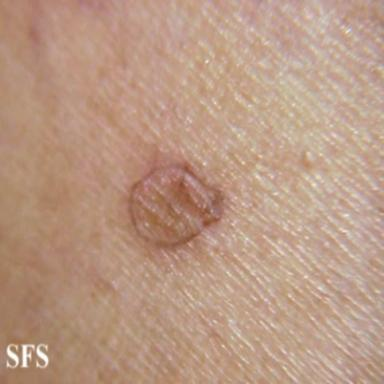Porokeratosis: (129, 159, 224, 246)
